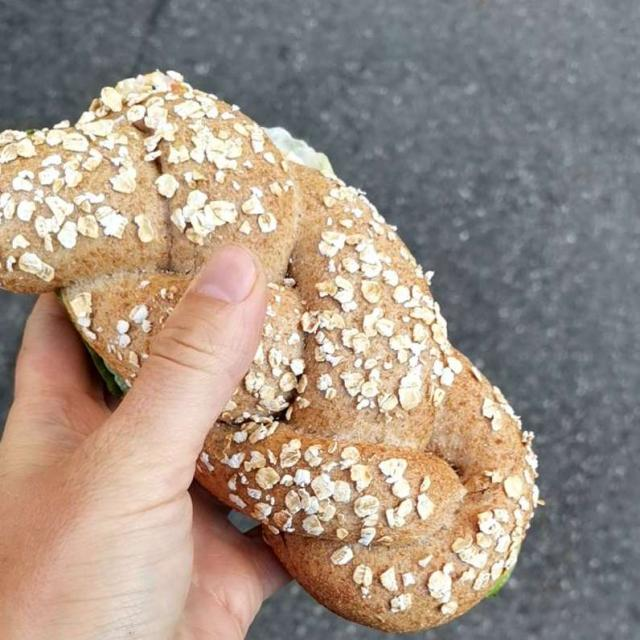bread-5-grain: (6, 58, 553, 629)
